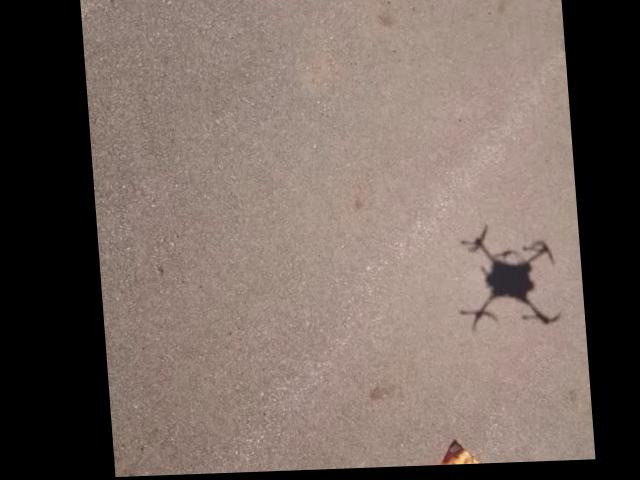fire-poster: (377, 438, 532, 470)
